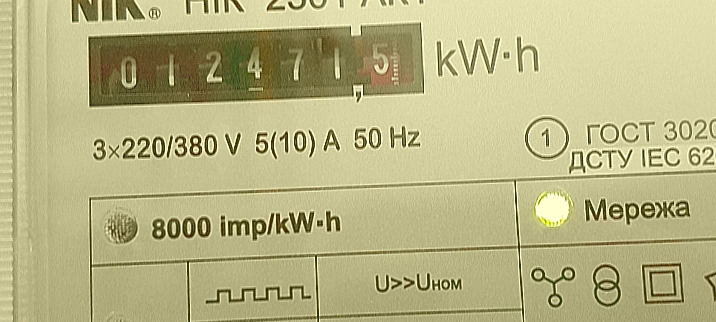0: (115, 52, 139, 89)
1: (329, 43, 341, 80), (164, 51, 176, 87)
2: (203, 47, 224, 84)
4: (244, 43, 263, 80)
5: (369, 37, 391, 76)
7: (283, 44, 304, 82)
screen: (76, 13, 435, 115)
